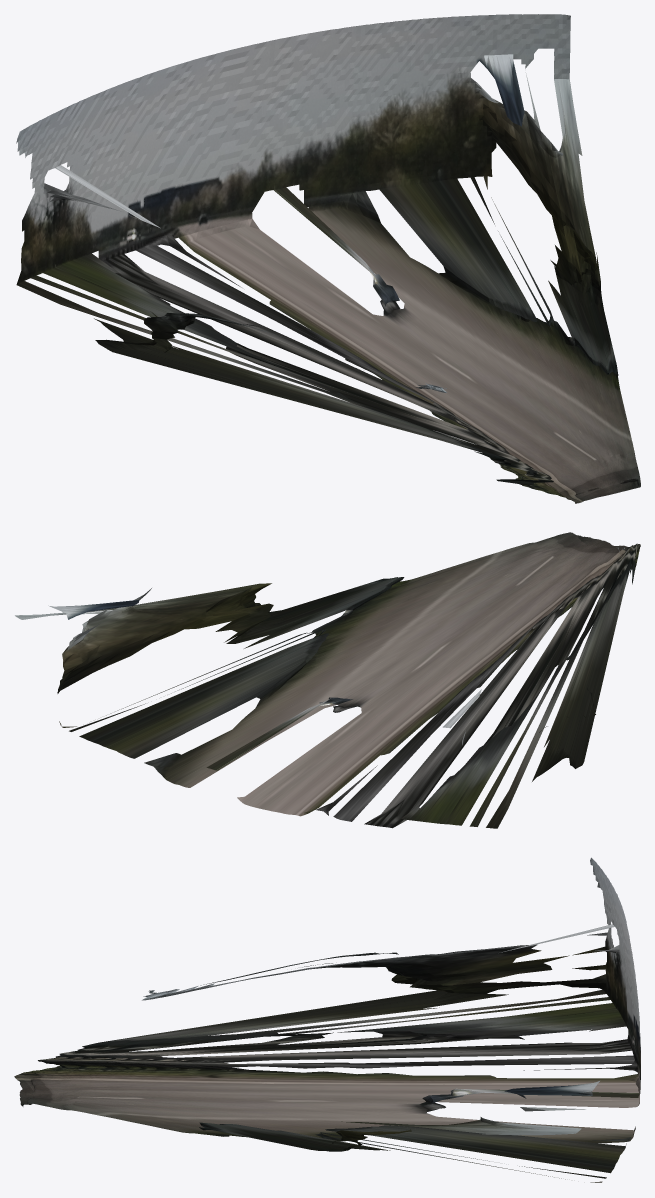
3 renders of one model, top to bottom at view 1: azimuth 30°, elevation 25°; view 2: azimuth 150°, elevation 25°; view 3: azimuth 270°, elevation 25°, orthographic. The views are drawn at different scales.
Parts seen in each view (by area): view 1: defaultobject; view 2: defaultobject; view 3: defaultobject.
Boxes of the visible parts, box(x1,y1,x2,y2) form: defaultobject: box(16, 14, 640, 503); defaultobject: box(15, 532, 640, 828); defaultobject: box(14, 857, 640, 1182).
Size of the model in its own units: 36.98 by 12.09 by 44.89.
1 material, 1 textured.
